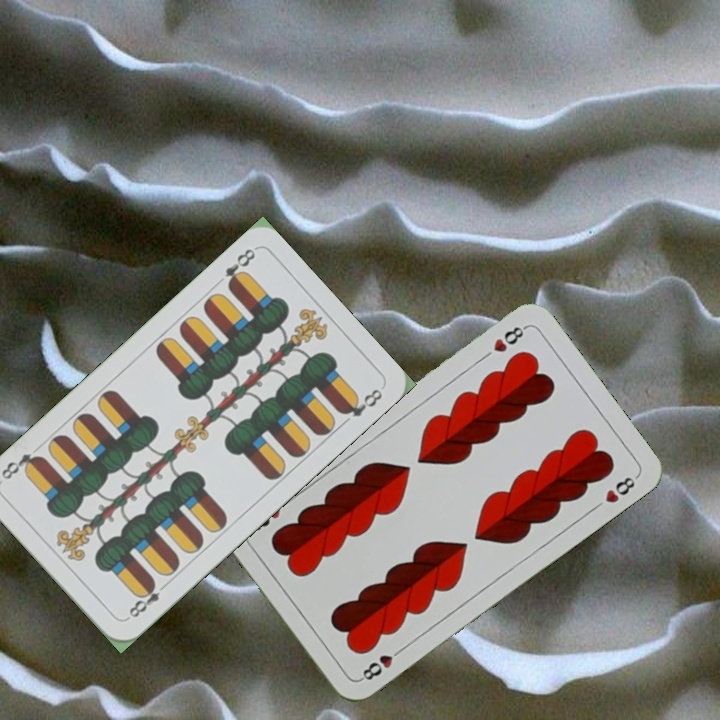E8: (122, 577, 171, 622), (220, 244, 258, 292)
H8: (355, 643, 406, 684), (489, 321, 530, 355)
